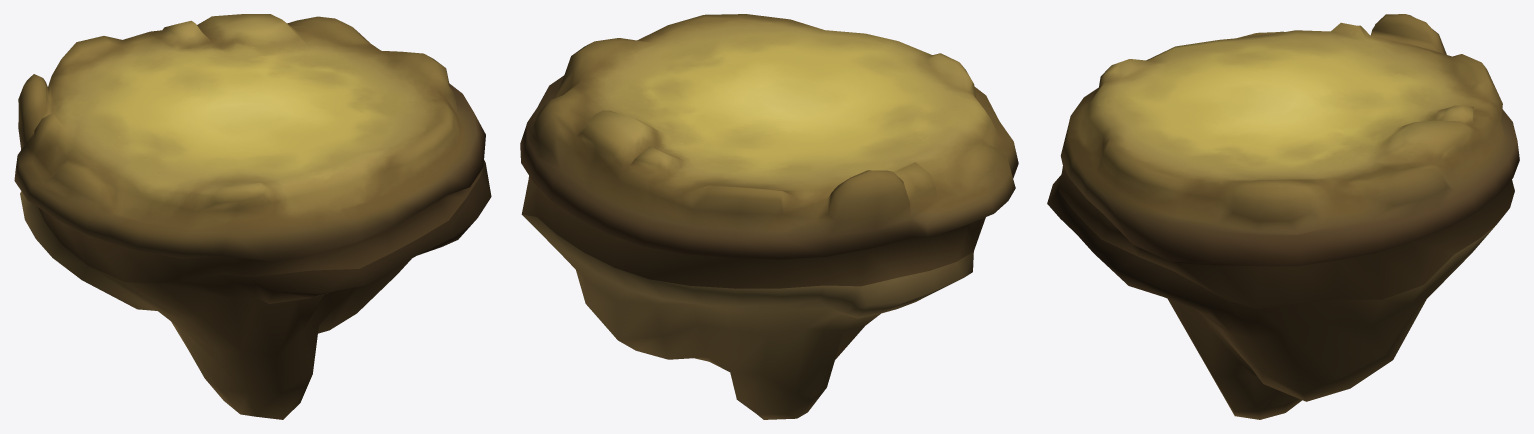
The model's file is MS_Desert01_Default01.fbx.
3 views of the same model, side by side, from view 1: azimuth 30°, elevation 25°; view 2: azimuth 150°, elevation 25°; view 3: azimuth 270°, elevation 25° (orthographic). The views are drawn at different scales.
Parts seen in each view (by area): view 1: MS_Desert01_Default01; view 2: MS_Desert01_Default01; view 3: MS_Desert01_Default01.
Boxes of the visible parts, bbox=[...] form: MS_Desert01_Default01: bbox=[14, 14, 491, 419]; MS_Desert01_Default01: bbox=[520, 14, 1018, 419]; MS_Desert01_Default01: bbox=[1047, 14, 1519, 419].
Size of the model in its own units: 3300 by 2365 by 3114.
